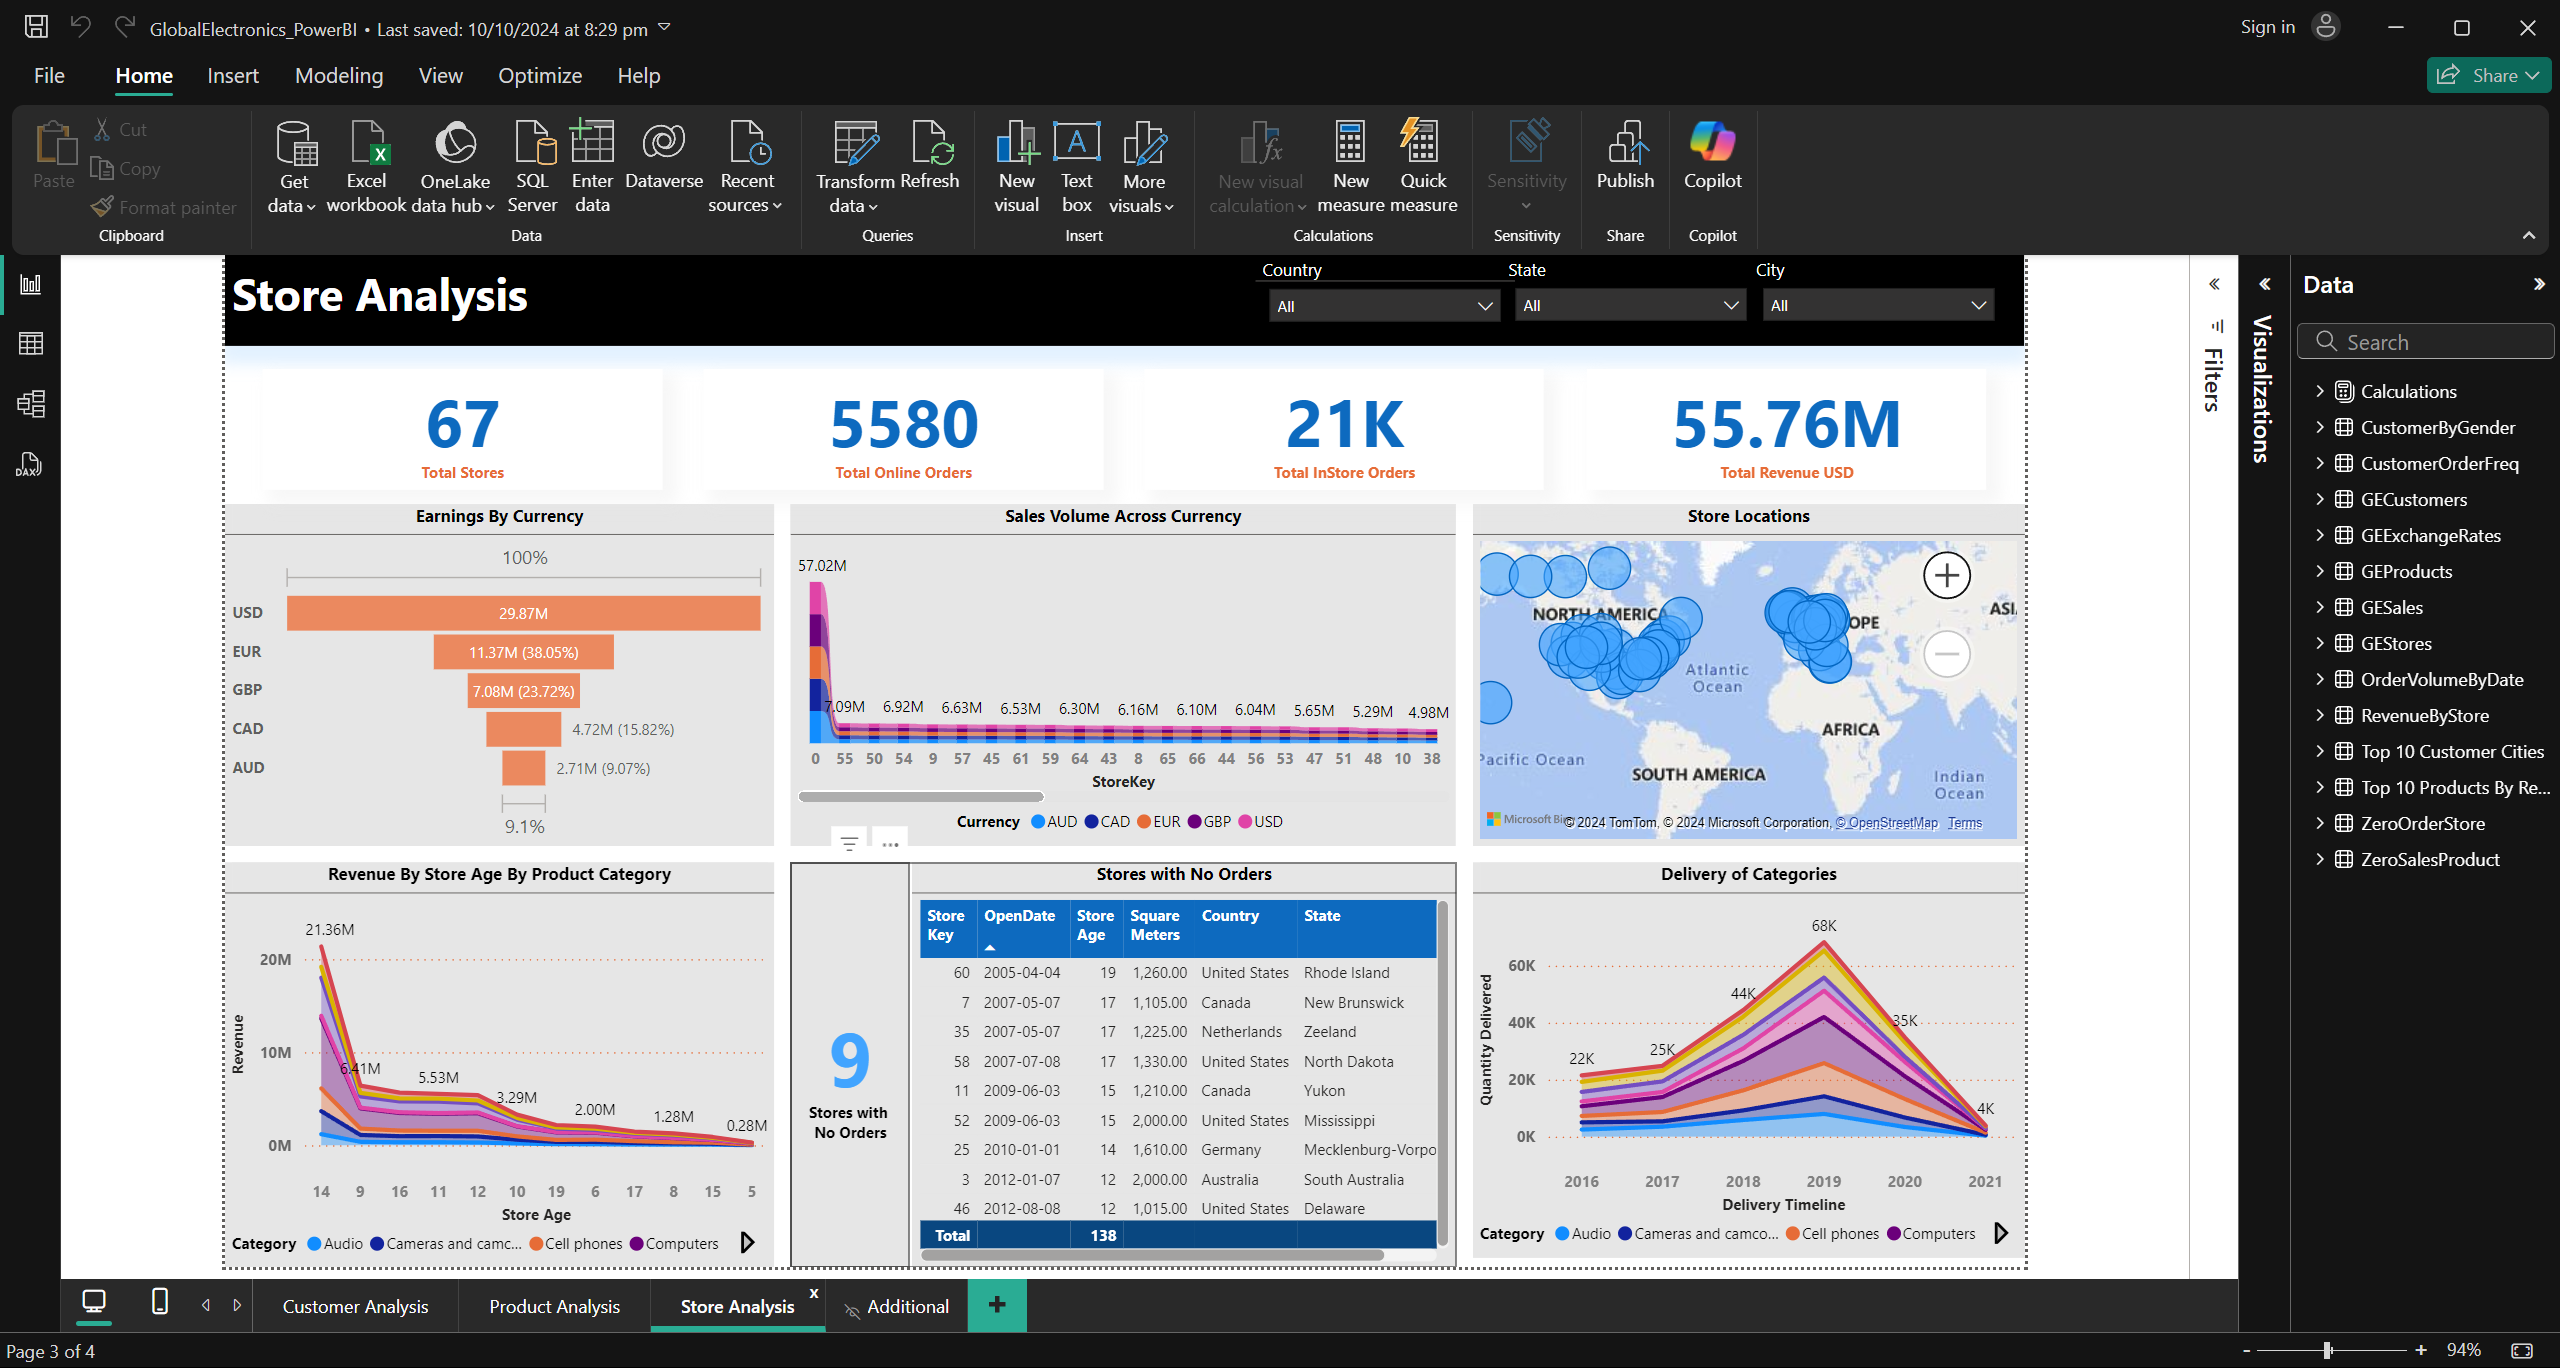

Layout of this report page (visuals, bound fields, positions):
{"tool":"powerbi","page":{"name":"Store Analysis","canvas":[1280,720],"ordinal":2},"visuals":[{"type":"textbox","box":[0,0,1279.7,64.5],"z":0},{"type":"card","fields":{"Values":["CountNonNull(GEStores.StoreKey)"]},"box":[26.5,81.2,284.3,86],"z":0,"group":"g1"},{"type":"card","fields":{"Values":["Calculations.Total Online Orders"]},"box":[340.7,81.2,284.3,86],"z":1000,"group":"g1"},{"type":"funnel","title":"Earnings By Currency","fields":{"Category":["GESales.CurrencyCode"],"Y":["Calculations.Total Revenue"]},"box":[0,177.7,390.7,243.2],"z":1000},{"type":"card","fields":{"Values":["Calculations.Total InStore Orders"]},"box":[653.9,81.2,284.1,86.3],"z":2000,"group":"g1"},{"type":"ribbonChart","title":"Sales Volume Across Currency","fields":{"Series":["GEExchangeRates.Currency"],"Category":["EarningsByStore.StoreKey"],"Y":["Calculations.Total Revenue"]},"box":[402.8,177.7,473.5,243.2],"z":2000},{"type":"card","fields":{"Values":["CustomerAgeGroup.Quantity x Count of UnitPriceUSD"]},"box":[969,81.2,284.1,86.3],"z":3000,"group":"g1"},{"type":"map","title":"Store Locations","fields":{"Category":["GEStores.Store_State"],"Size":["CountNonNull(GEStores.StoreKey)"]},"box":[887.5,177.7,392.5,243.2],"z":3000},{"type":"slicer","title":"Country","fields":{"Values":["GECustomers.Cust_Country"]},"box":[732.6,1.7,184.6,57.3],"z":4000},{"type":"slicer","title":"State","fields":{"Values":["GECustomers.Cust_State"]},"box":[908.2,2.5,184.6,57.4],"z":5000},{"type":"slicer","title":"City","fields":{"Values":["GECustomers.Cust_City"]},"box":[1083.9,2.7,184.6,57.4],"z":6000},{"type":"group","id":"g1","title":"Group 1","box":[26.5,81.2,1226.7,86.3],"z":7000},{"type":"group","id":"g2","title":"Group 1","box":[402.8,432.1,473.5,288.1],"z":8000},{"type":"stackedAreaChart","title":"Delivery of Categories ","fields":{"Category":["GESales.DeliveryDate.Variation.Date Hierarchy.Year","GESales.DeliveryDate.Variation.Date Hierarchy.Quarter"],"Y":["Sum(GESales.Quantity)"],"Series":["GEProducts.Category"]},"box":[887.5,432.1,392.5,281.2],"z":9000},{"type":"tableEx","title":"Stores with No Orders","fields":{"Values":["ZeroSalesStore.StoreKey","ZeroSalesStore.OpenDate","Sum(ZeroSalesStore.StoreAge)","GEStores.SquareMeters","ZeroSalesStore.Store_Country","ZeroSalesStore.Store_State"]},"box":[489.1,432.1,387.3,288.1],"z":10000,"group":"g2"},{"type":"stackedAreaChart","title":"Revenue By Store Age By Product Category","fields":{"Category":["GEStores.StoreAge"],"Y":["Calculations.Total Revenue"],"Series":["GEProducts.Category"]},"box":[0,432.1,390.7,288.1],"z":10001},{"type":"card","fields":{"Values":["CountNonNull(ZeroSalesStore.StoreKey)"]},"box":[402.8,432.1,84.5,288.1],"z":13000,"group":"g2"}]}

Visuals, with their boxes on the page's 1280x720 design canvas (x1, y1, x2, y2). These are canvas units, not pixel positions in the 2560x1368 screenshot, which may show the page scaled, cropped or inside an application window:
textbox: [left=0, top=0, right=1280, bottom=64]
card - CountNonNull(GEStores.StoreKey): [left=26, top=81, right=311, bottom=167]
card - Calculations.Total Online Orders: [left=341, top=81, right=625, bottom=167]
"Earnings By Currency" funnel: [left=0, top=178, right=391, bottom=421]
card - Calculations.Total InStore Orders: [left=654, top=81, right=938, bottom=168]
"Sales Volume Across Currency" ribbonChart: [left=403, top=178, right=876, bottom=421]
card - CustomerAgeGroup.Quantity x Count of UnitPriceUSD: [left=969, top=81, right=1253, bottom=168]
"Store Locations" map: [left=888, top=178, right=1280, bottom=421]
"Country" slicer: [left=733, top=2, right=917, bottom=59]
"State" slicer: [left=908, top=2, right=1093, bottom=60]
"City" slicer: [left=1084, top=3, right=1268, bottom=60]
"Group 1" group: [left=26, top=81, right=1253, bottom=168]
"Group 1" group: [left=403, top=432, right=876, bottom=720]
"Delivery of Categories " stackedAreaChart: [left=888, top=432, right=1280, bottom=713]
"Stores with No Orders" tableEx: [left=489, top=432, right=876, bottom=720]
"Revenue By Store Age By Product Category" stackedAreaChart: [left=0, top=432, right=391, bottom=720]
card - CountNonNull(ZeroSalesStore.StoreKey): [left=403, top=432, right=487, bottom=720]
